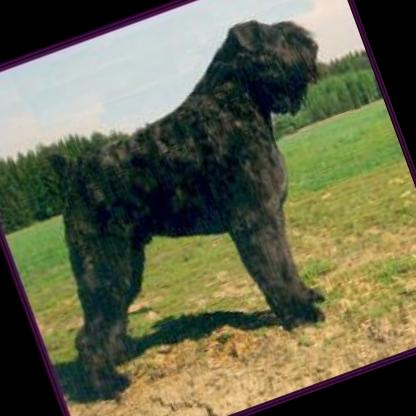Bouvier_des_Flandres: (0, 0, 406, 412)
